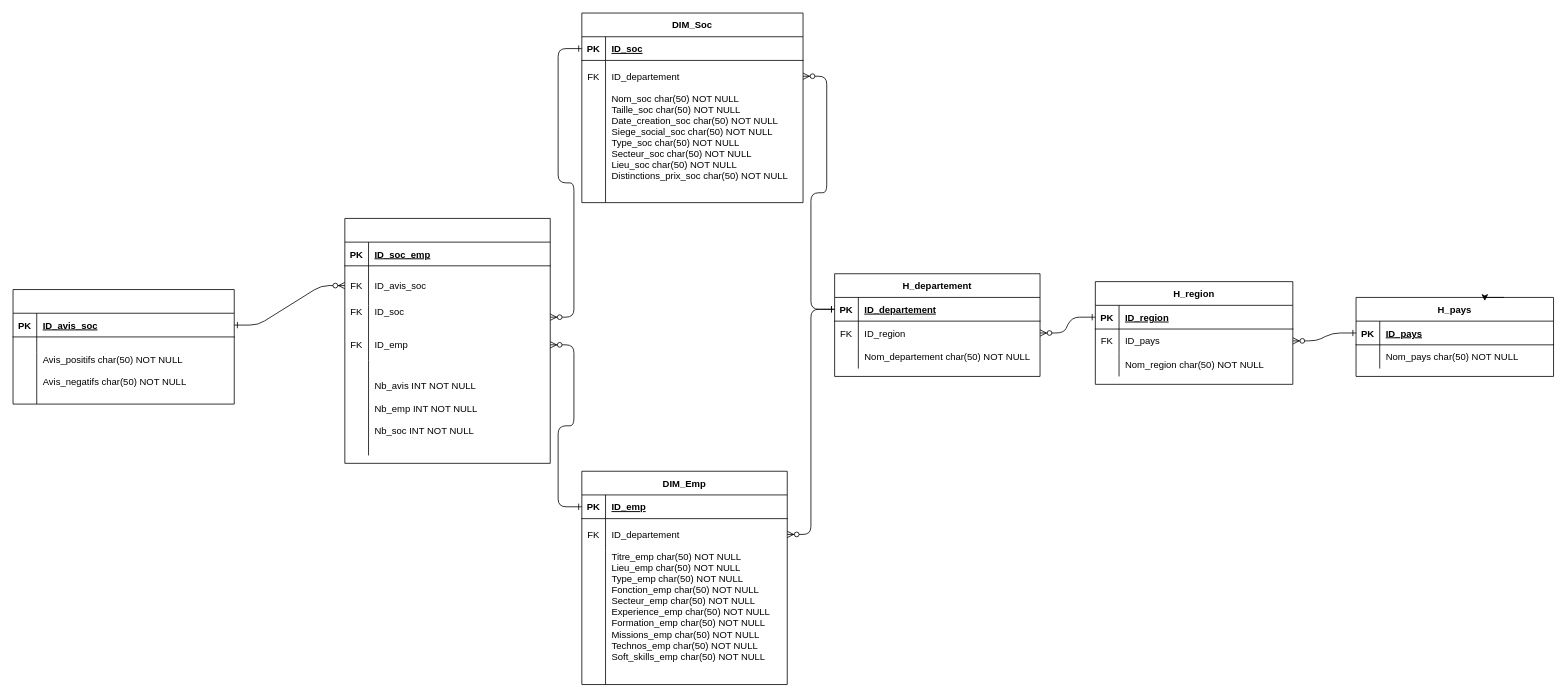
This 1567x698 diagram has some shape labels left out. Each missing label, with the box of its shape:
DIM_Avis_Soc: (12, 289, 234, 404)
FAIT_Soc_Emp: (344, 218, 550, 463)
